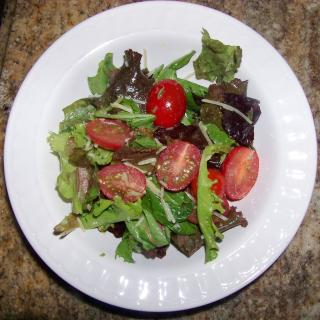tomato: (153, 140, 202, 192), (190, 169, 227, 226), (221, 146, 260, 200), (146, 78, 186, 128), (93, 165, 145, 203), (87, 119, 130, 151)
